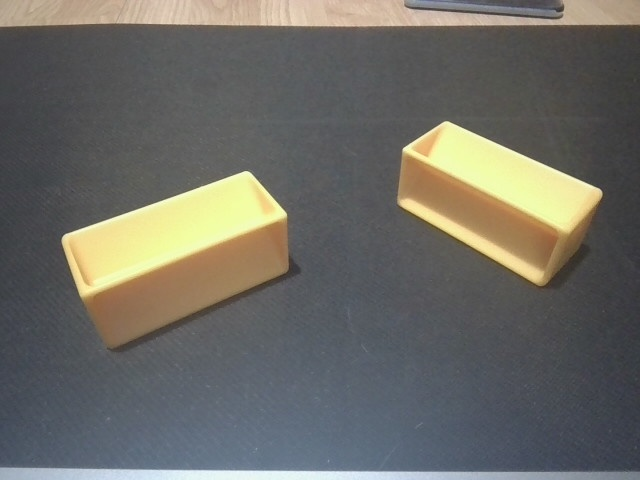YellowSample: (59, 168, 291, 351), (393, 117, 605, 291)
